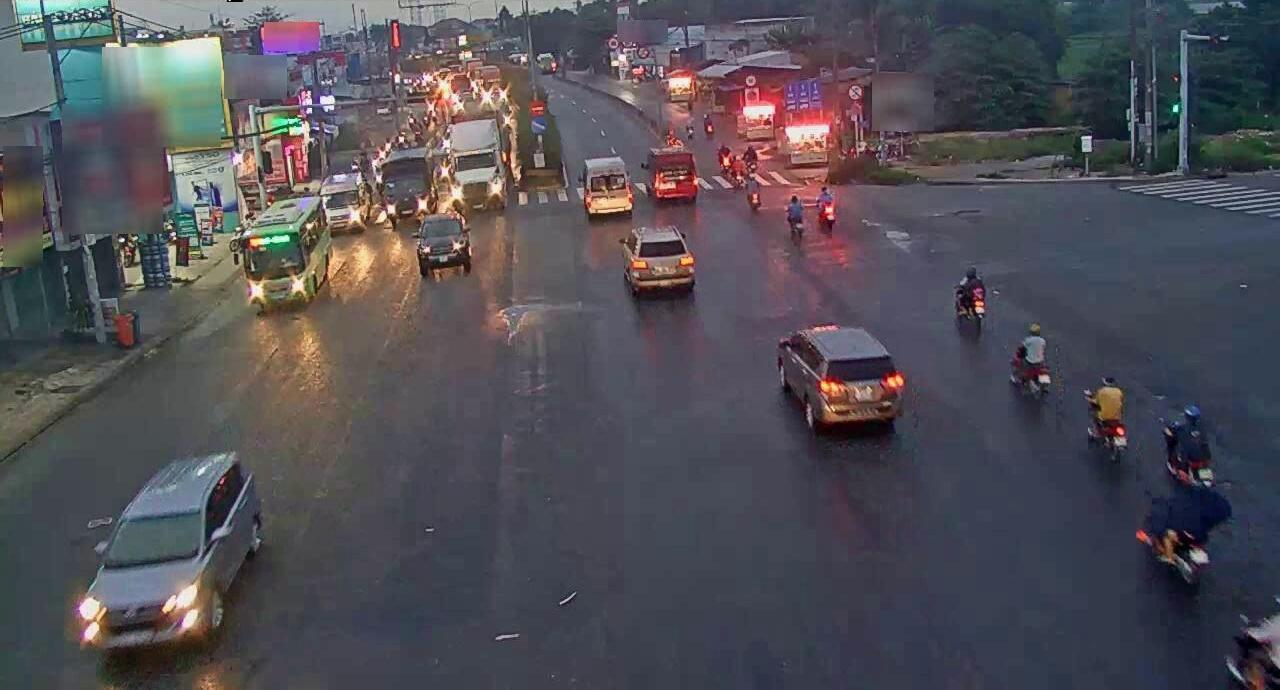xe hoi: (61, 441, 264, 655), (773, 320, 904, 430), (624, 220, 693, 294)
xe may: (1156, 398, 1225, 508), (1081, 368, 1137, 471), (1008, 333, 1054, 415), (948, 268, 993, 346)
xe van: (575, 151, 641, 227), (643, 141, 702, 202)
